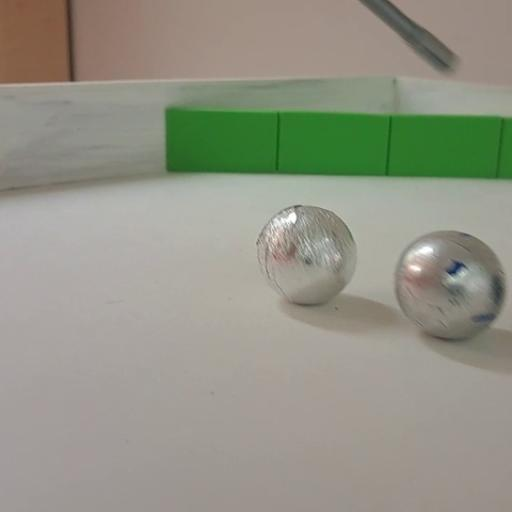alive: (392, 230, 506, 338), (256, 205, 356, 304)
